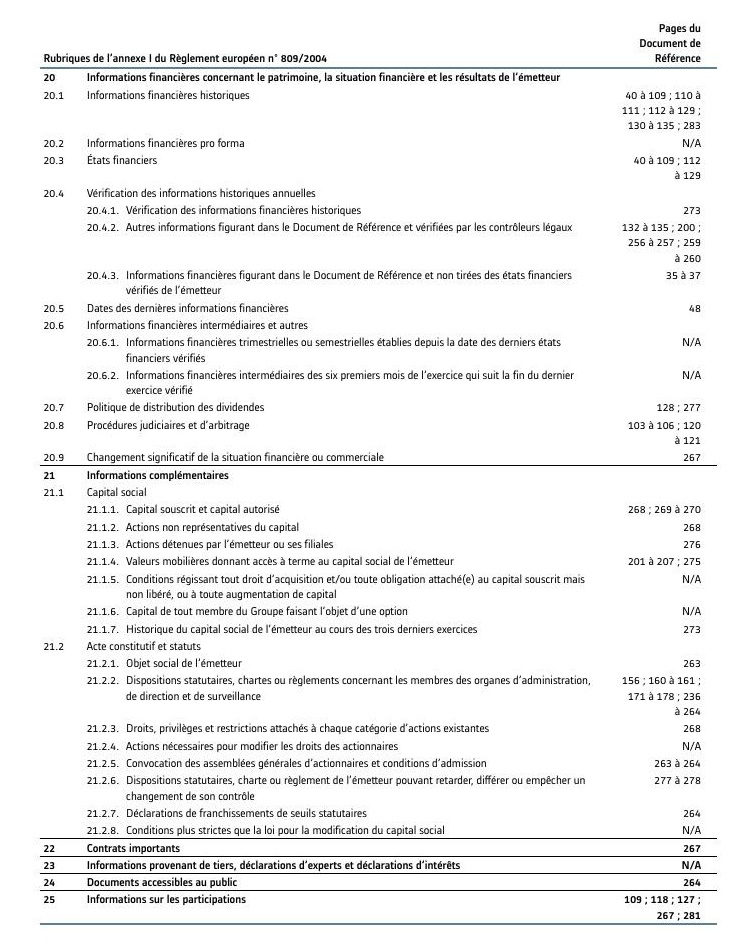table: (0, 0, 735, 945)
